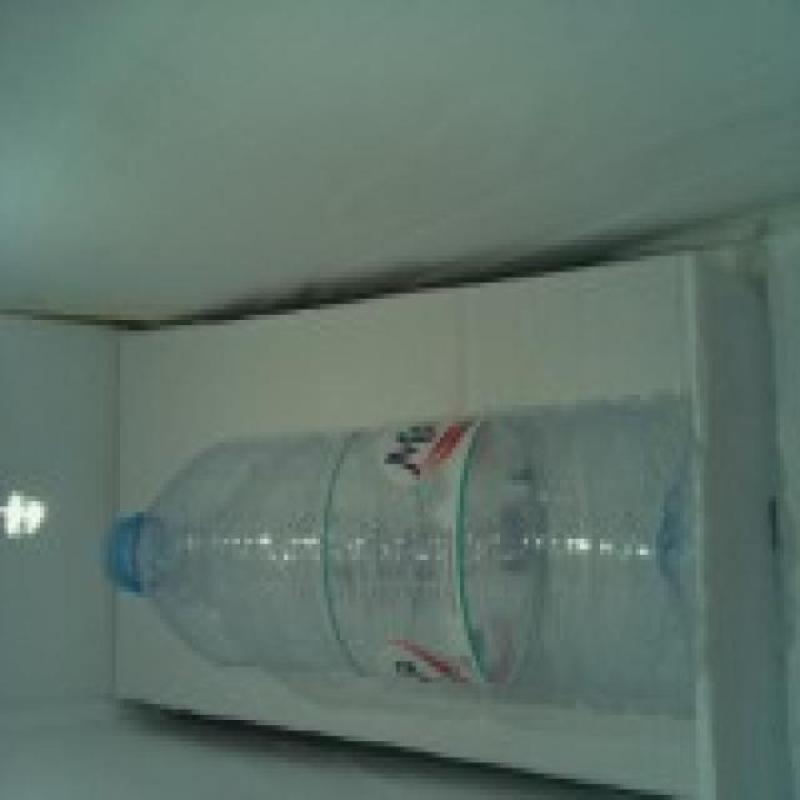botella: (105, 406, 697, 722)
